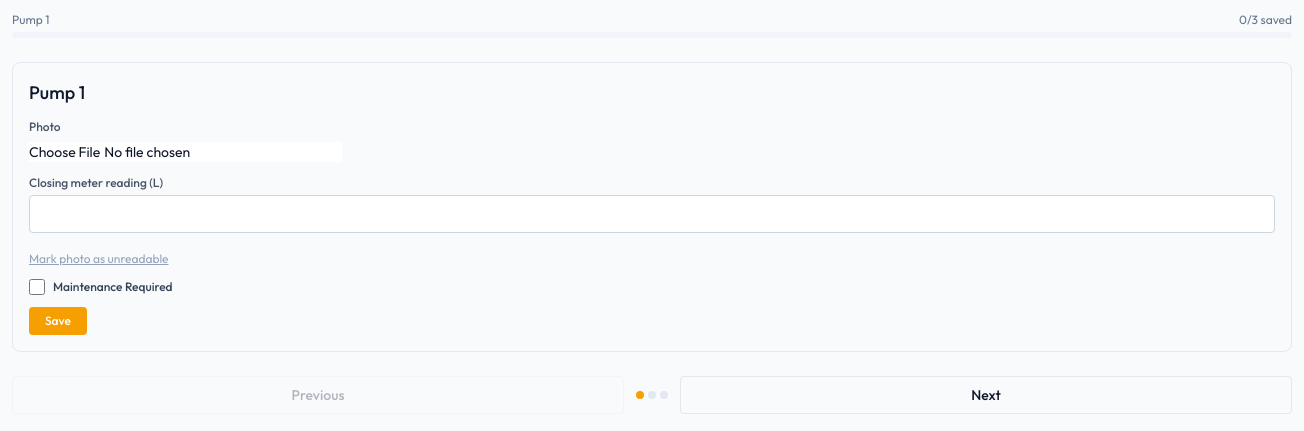
Test: PumpCarousel › Next button advances to the next pump
Click the button "Next" at (986, 395), box [680,376,1292,414]
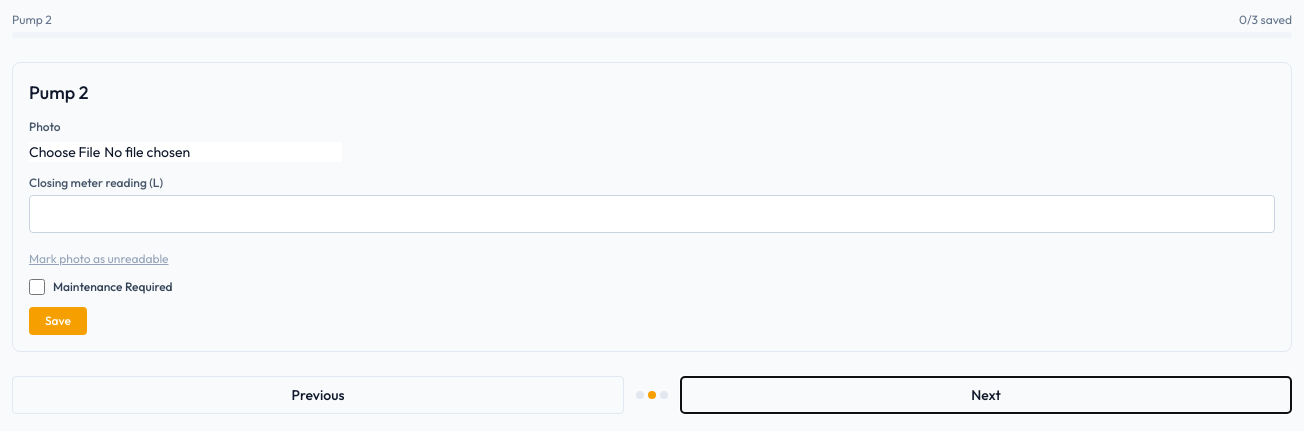
expect the text "Pump 2" in the row of "saved" is shown: met, box [12,12,52,27]
